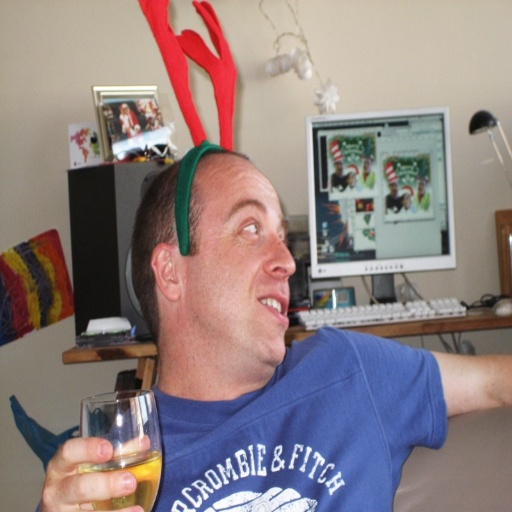hand: (33, 414, 133, 500)
